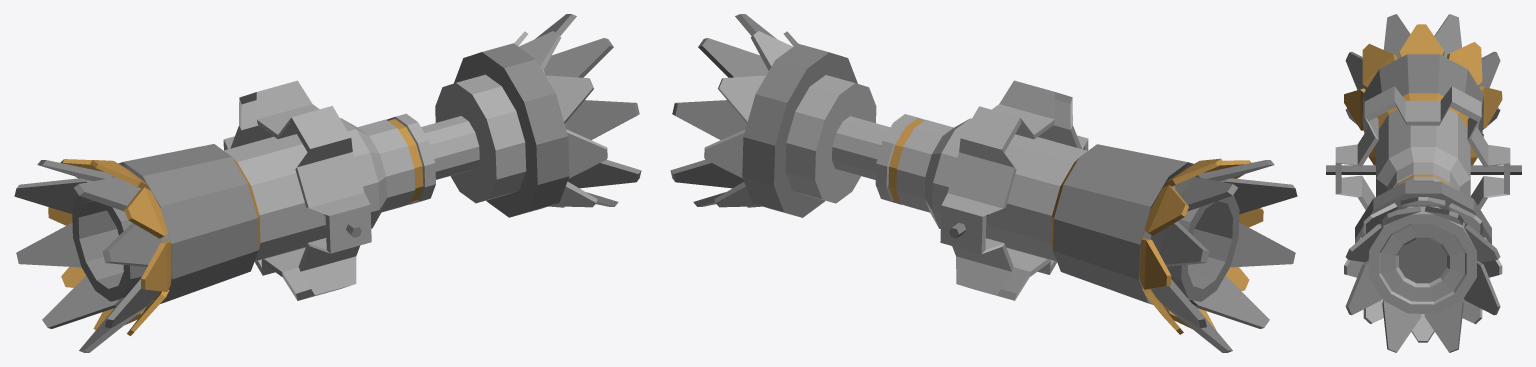
Rendered from Props_Laser.gltf.
The picture shows the model from 3 angles, left to right: view 1: azimuth 30°, elevation 25°; view 2: azimuth 150°, elevation 25°; view 3: azimuth 270°, elevation 25°; orthographic projection. The views are drawn at different scales.
Parts seen in each view (by area): view 1: Props_Laser; view 2: Props_Laser; view 3: Props_Laser.
Boxes of the visible parts, x1,y1,x2,y2 form: Props_Laser: (14,14,641,352); Props_Laser: (670,14,1297,352); Props_Laser: (1326,14,1521,352).
Size of the model in its own units: 3.84 by 1.29 by 1.46.
